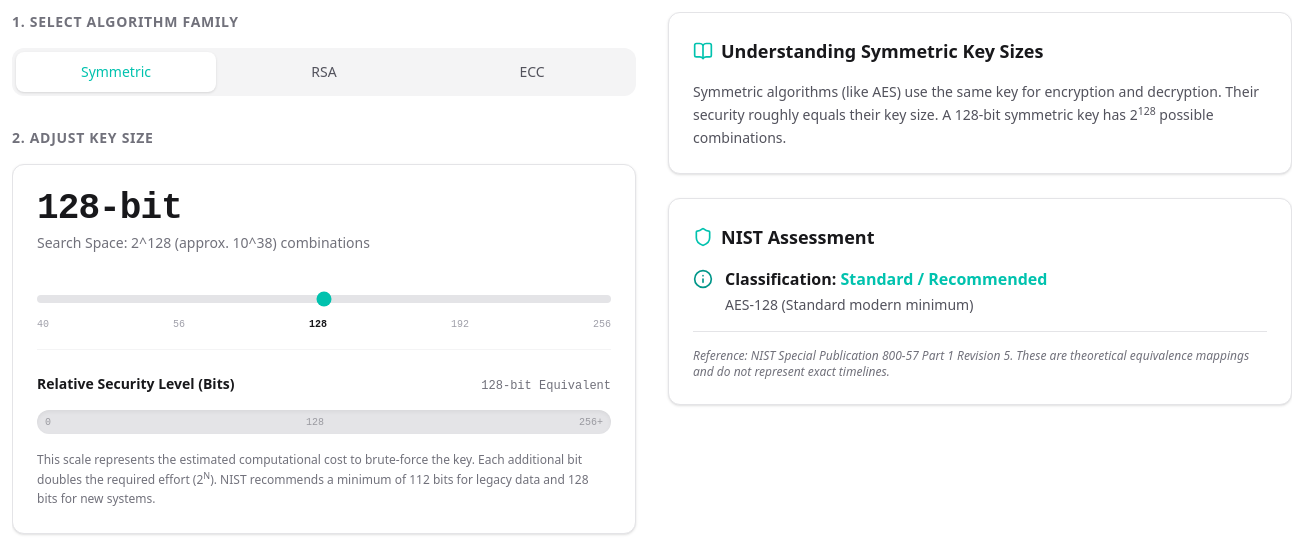
KeySizeEstimator Component › switches to RSA and updates key sizes
Click the button "RSA".
click(324, 72)  # box [224,52,424,92]
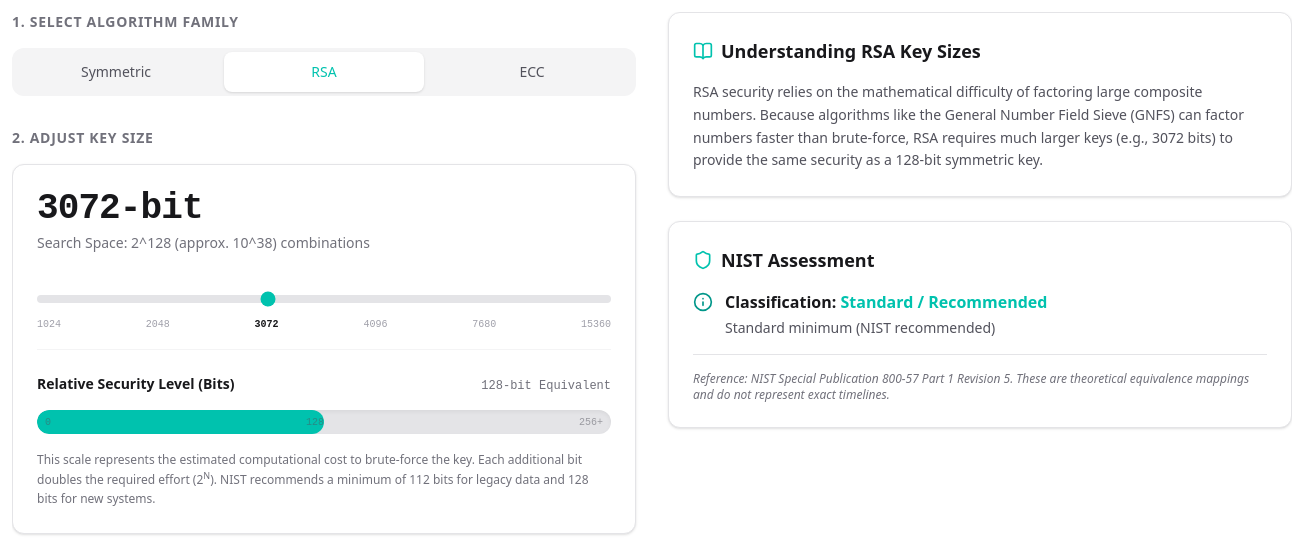
Expected: the text "128-bit Equivalent" is shown, [481,378,611,394]
Now the text "3072-bit" is shown, box [37,188,203,229]
Now the text "Standard minimum (NIST recommended)" is shown, box [725,318,995,337]
